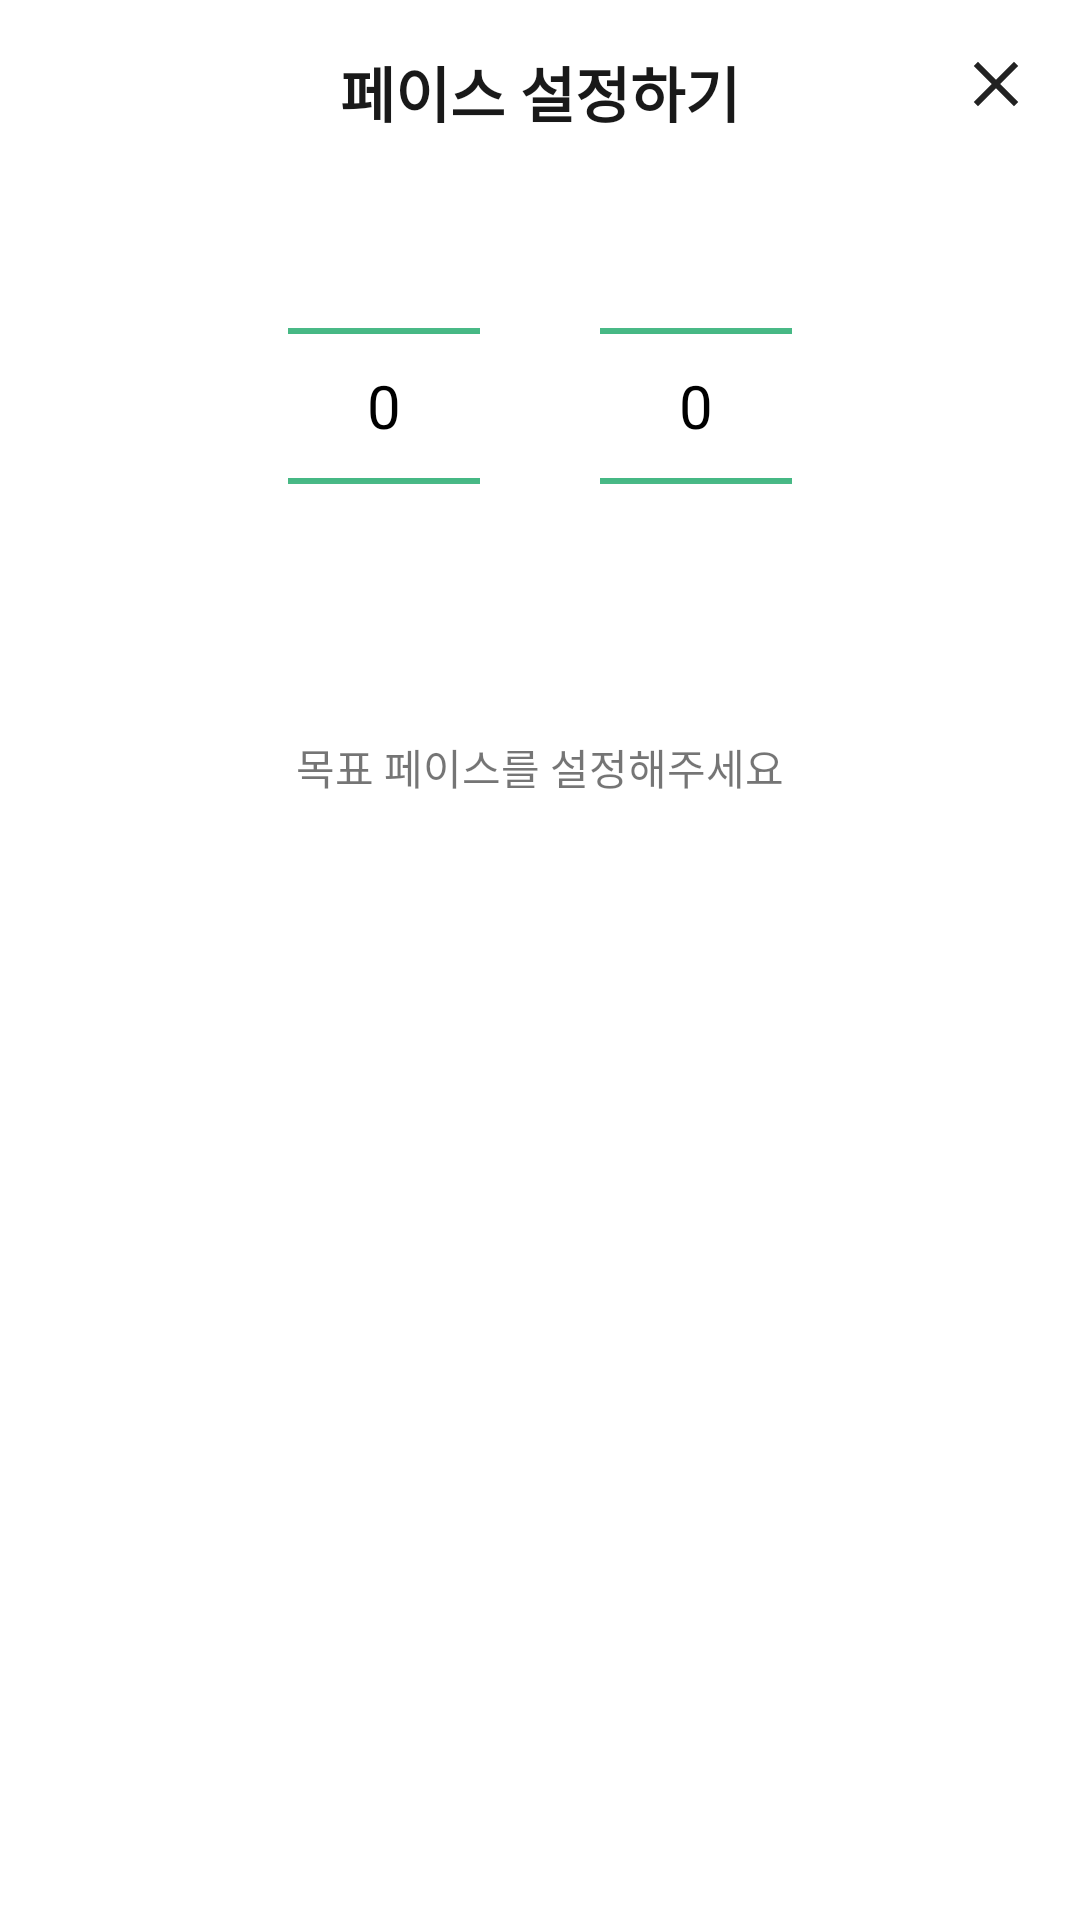

Screen size 1080px×1920px. Icon name, then its box in pixels as (x1, y1, x2, y2):
all close: (974, 62, 1018, 106)
